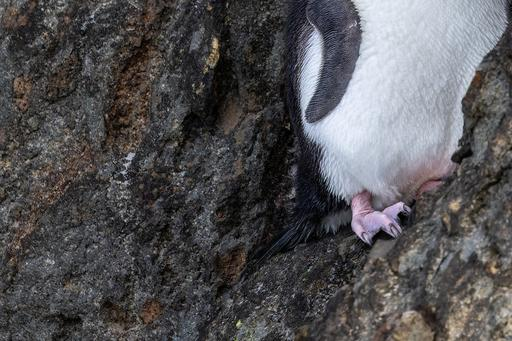Southern Rockhopper Penguin: (246, 0, 512, 261)
